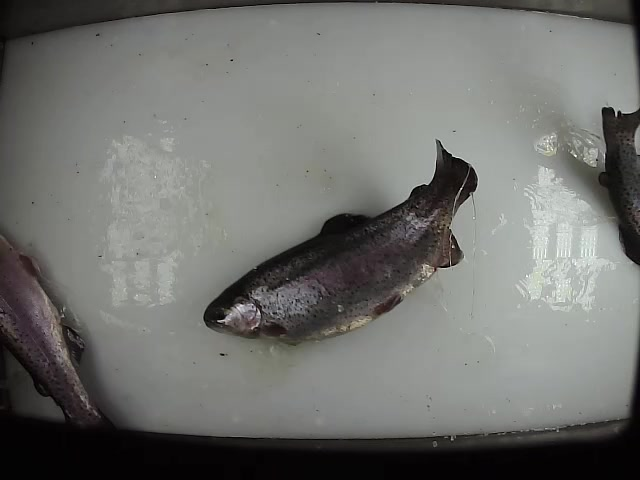fish: (200, 137, 481, 347), (1, 233, 115, 432), (597, 103, 640, 264)
